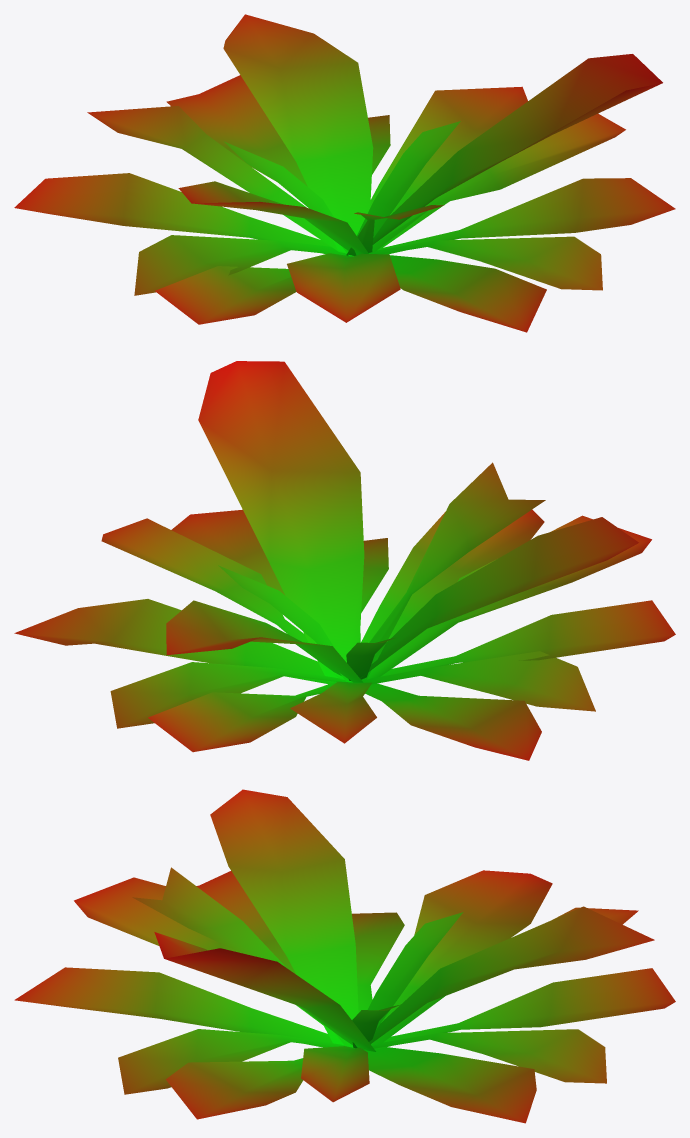
Rendered from Var25_LOD1.fbx.
The picture shows the model from 3 angles, top to bottom: view 1: azimuth 30°, elevation 25°; view 2: azimuth 150°, elevation 25°; view 3: azimuth 270°, elevation 25°; orthographic projection. The views are drawn at different scales.
Visible parts, largest first — view 1: _ju6f_Var25_LOD1; view 2: _ju6f_Var25_LOD1; view 3: _ju6f_Var25_LOD1.
Boxes of the visible parts, bbox=[...] form: _ju6f_Var25_LOD1: bbox=[14, 14, 675, 332]; _ju6f_Var25_LOD1: bbox=[14, 361, 675, 760]; _ju6f_Var25_LOD1: bbox=[14, 789, 675, 1123].
Size of the model in its own units: 14.89 by 5.73 by 16.44.
